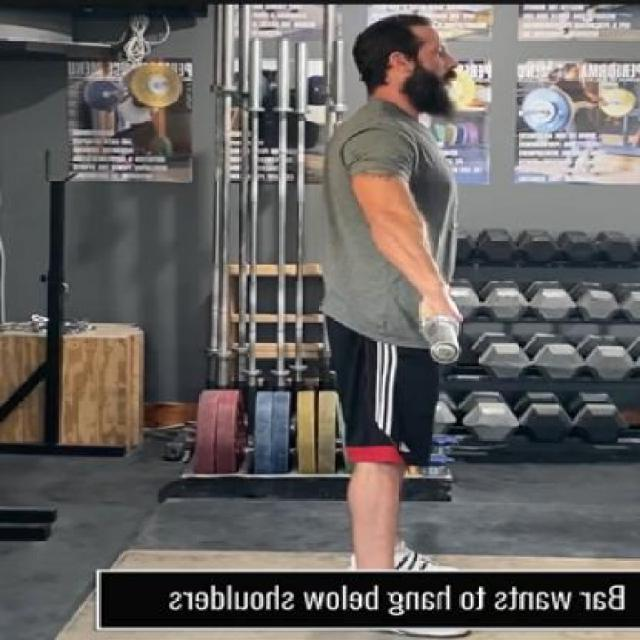Barbell: (424, 337, 464, 366)
